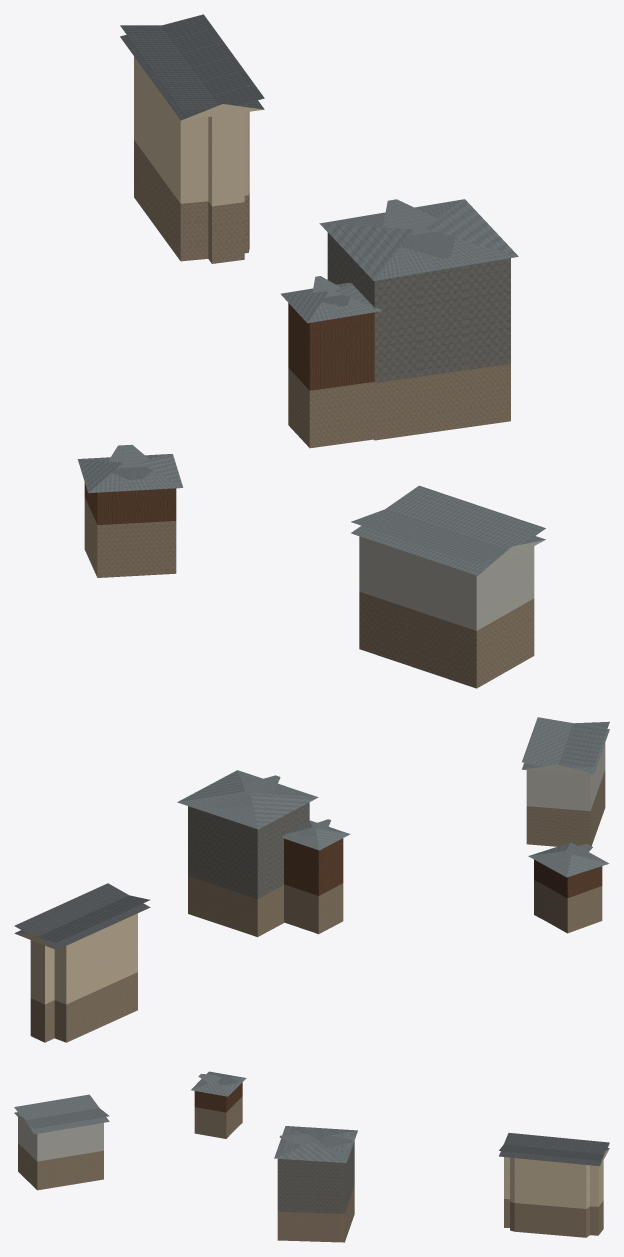
The model's file is bld_c9_26_406.gltf.
The picture shows the model from 3 angles, top to bottom: view 1: azimuth 30°, elevation 25°; view 2: azimuth 150°, elevation 25°; view 3: azimuth 270°, elevation 25°; orthographic projection. The views are drawn at different scales.
Parts seen in each view (by area): view 1: bld_c9_26_406; view 2: bld_c9_26_406; view 3: bld_c9_26_406.
Part boxes in pixels (x1=…): bld_c9_26_406: x1=77, y1=14, x2=545, y2=688; bld_c9_26_406: x1=14, y1=717, x2=609, y2=1042; bld_c9_26_406: x1=14, y1=1071, x2=609, y2=1242.
Bounding box in the file's own units: 47.69 × 16.2 × 95.68.
Materials: 9 (9 with a texture image).
